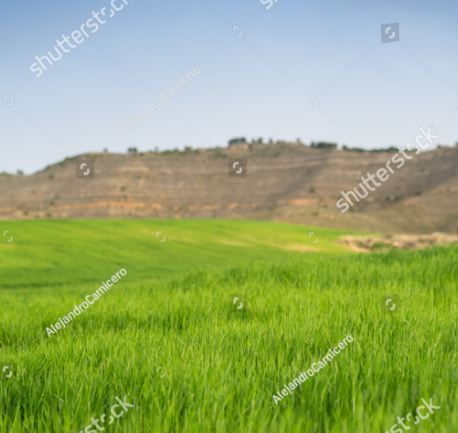Wheat: (124, 343, 270, 424)
